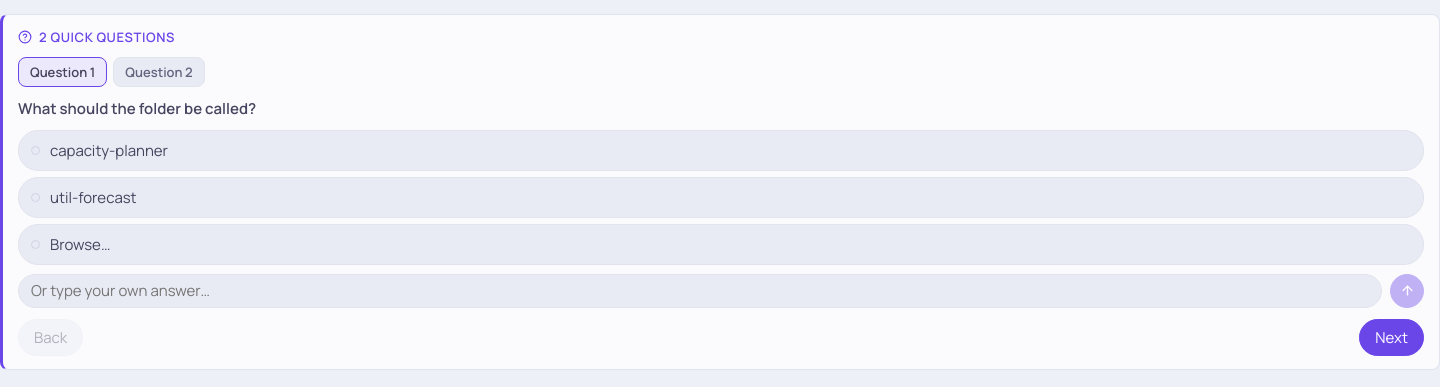
Scenario: UserQuestionGroupCard stepper › answering the first of two questions submits nothing and leaves the second answerable
Click the button "capacity-planner" at {"x": 109, "y": 150}, box [18,130,1424,170]
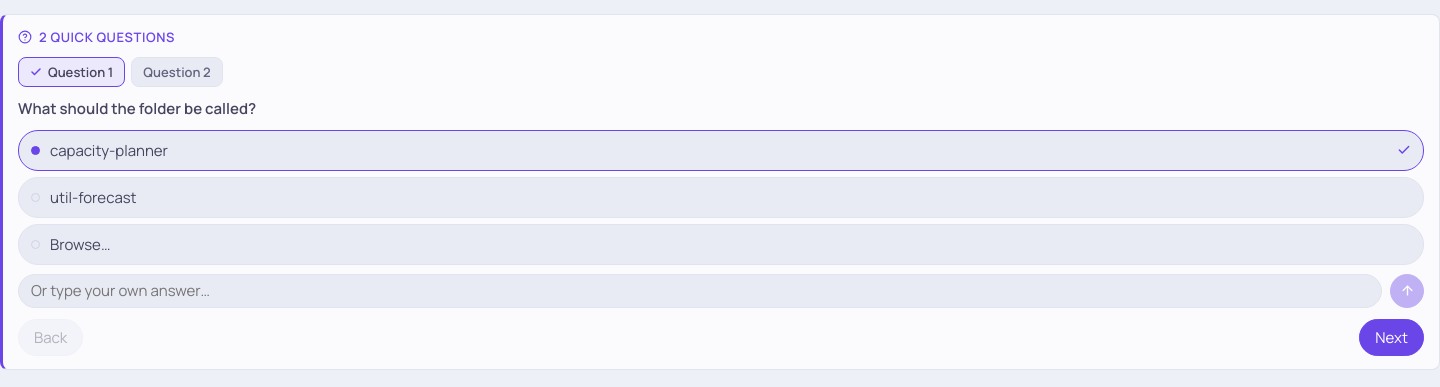
Expected: the button "util-forecast" is enabled, [18,176,1424,218]
Click the button "Next" at {"x": 1392, "y": 337}, box [1359,318,1424,356]
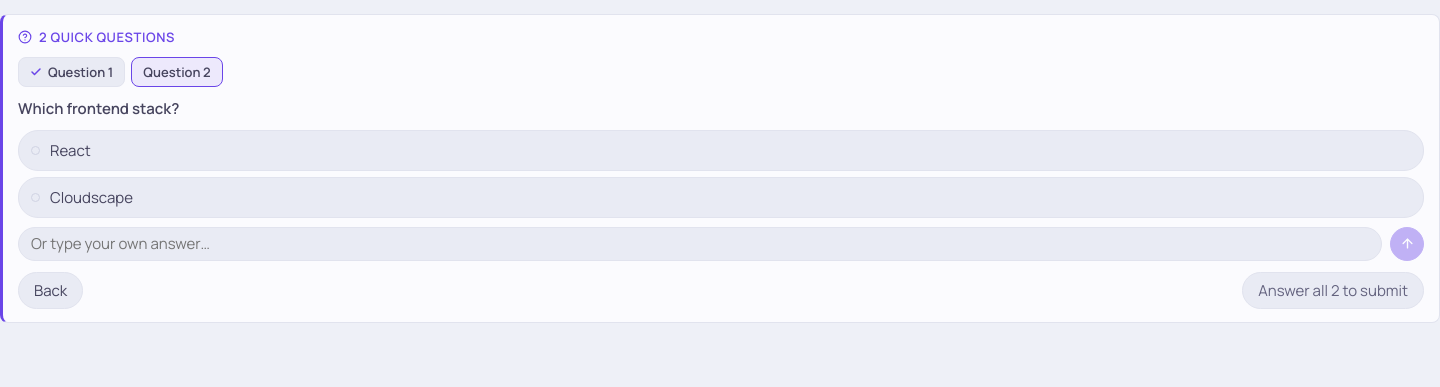
Expected: the field labelled "type your own answer" is enabled, [18,226,1382,260]
Expected: the text "Which frontend stack?" is shown, [18,98,179,119]
Expected: the button "React" is enabled, [18,130,1424,170]
